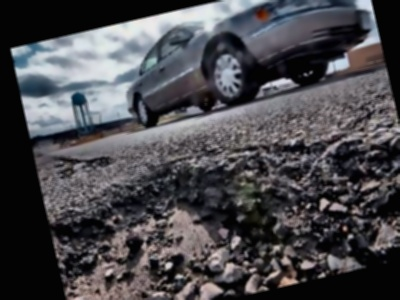pothole: (40, 104, 400, 300), (79, 152, 117, 173)
